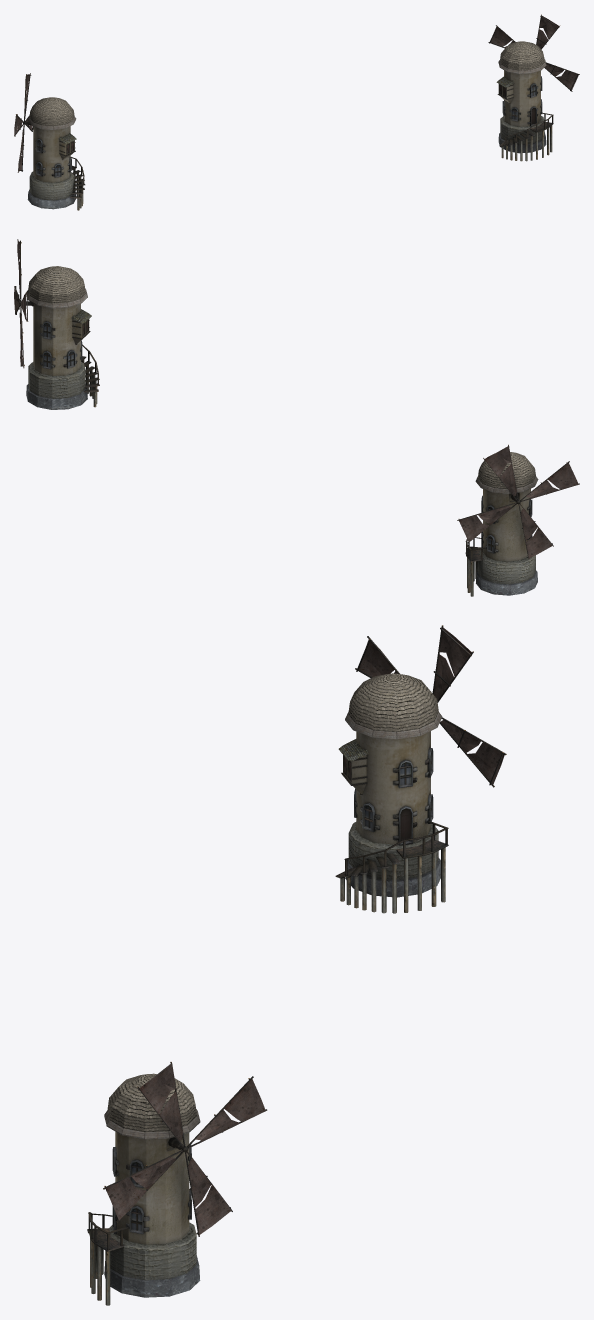
The model's file is Moinho1.fbx.
3 renders of one model, top to bottom at view 1: azimuth 30°, elevation 25°; view 2: azimuth 150°, elevation 25°; view 3: azimuth 270°, elevation 25°, orthographic. The views are drawn at different scales.
Visible parts, largest first — view 1: M1.001; view 2: M1.001; view 3: M1.001.
Boxes of the visible parts, bbox=[...] form: M1.001: bbox=[14, 14, 579, 210]; M1.001: bbox=[14, 239, 579, 596]; M1.001: bbox=[87, 625, 506, 1305].
Bounding box in the file's own units: 9798 × 2315 × 3538.
